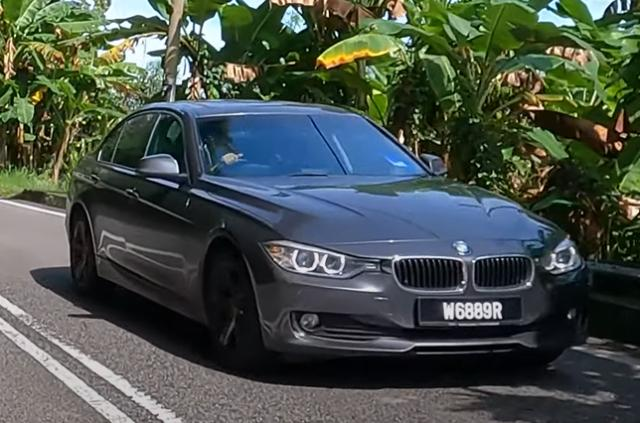License_Plate: (442, 300, 505, 323)
car: (65, 99, 592, 370)
